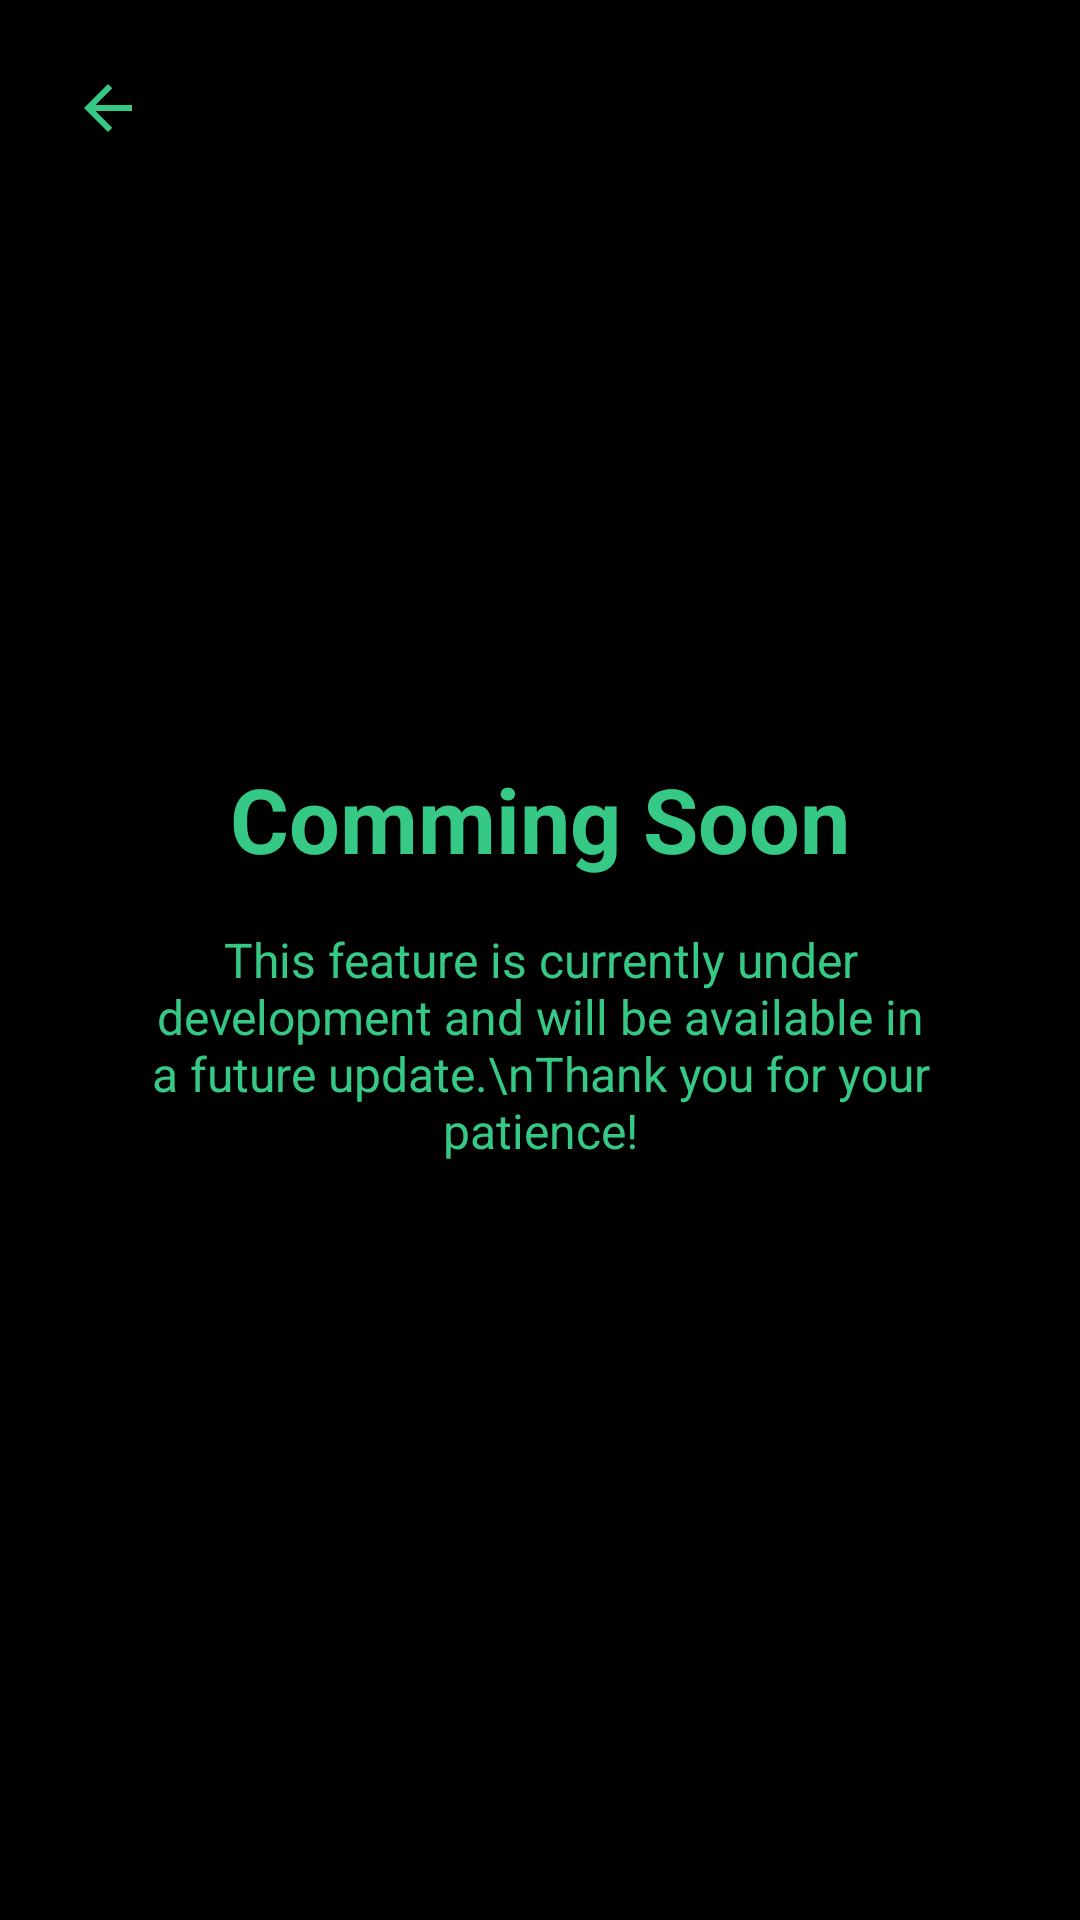

Named icons in this screenshot (1080px x 1920px) and their bounding boxes, (x1, y1, x2, y2):
Back: (84, 84, 132, 132)
